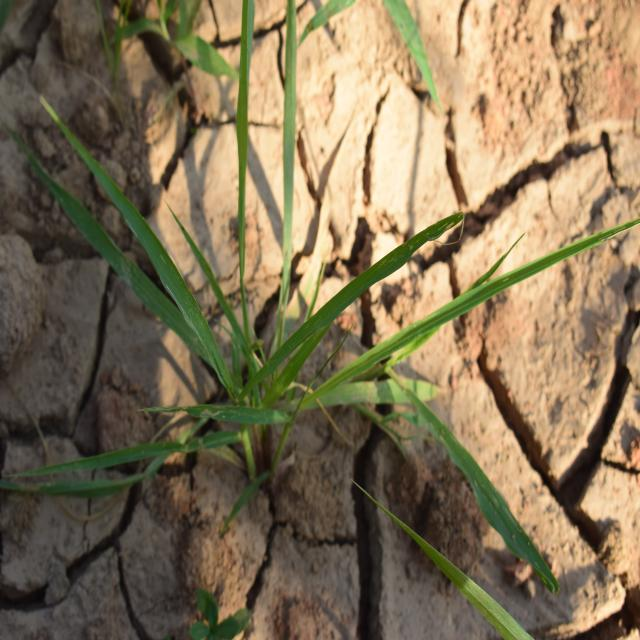green_foxtail: (69, 113, 519, 476)
